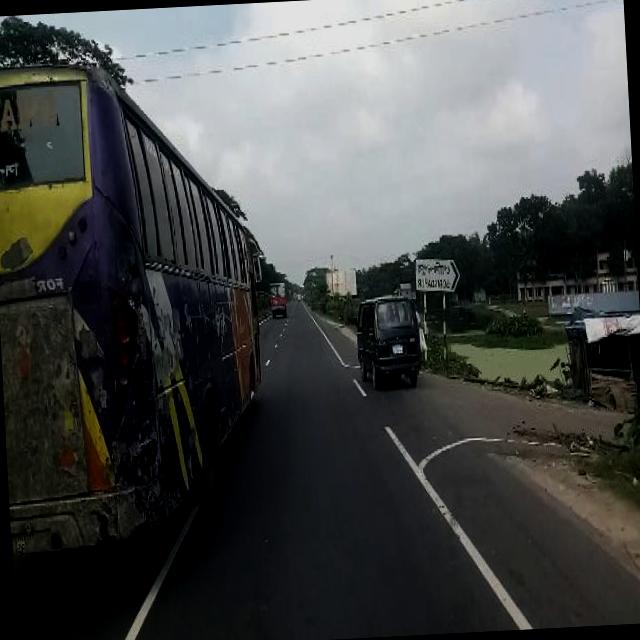bus: (0, 49, 278, 558)
truck: (354, 292, 422, 389), (270, 280, 288, 318)
